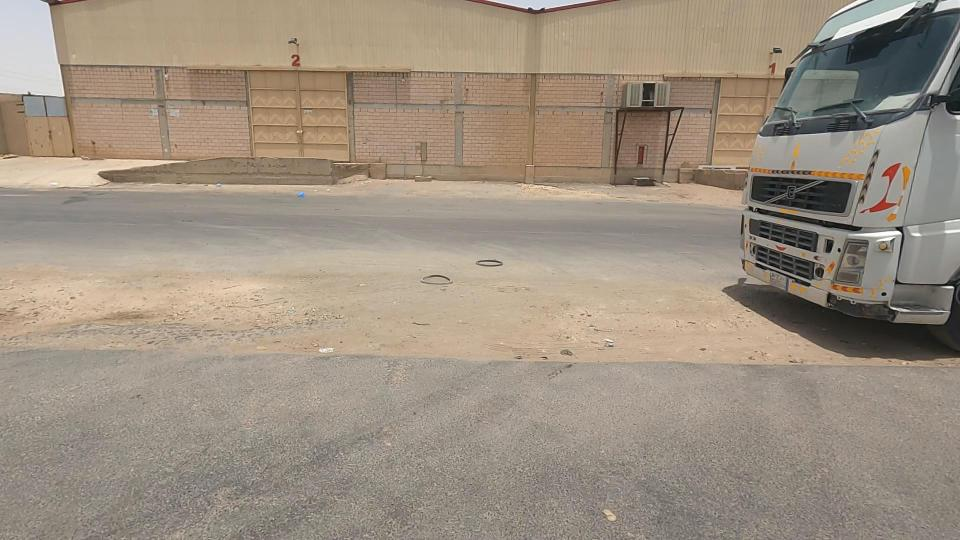CLUTTER_SIDEWALK: (245, 180, 851, 438), (0, 210, 455, 397)
